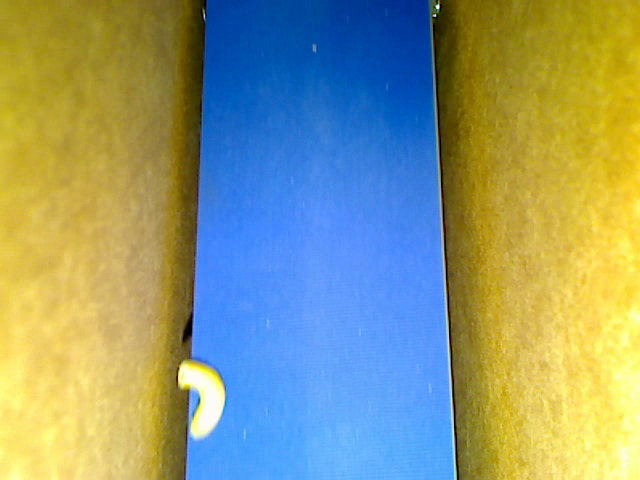elbow: (178, 360, 225, 440)
